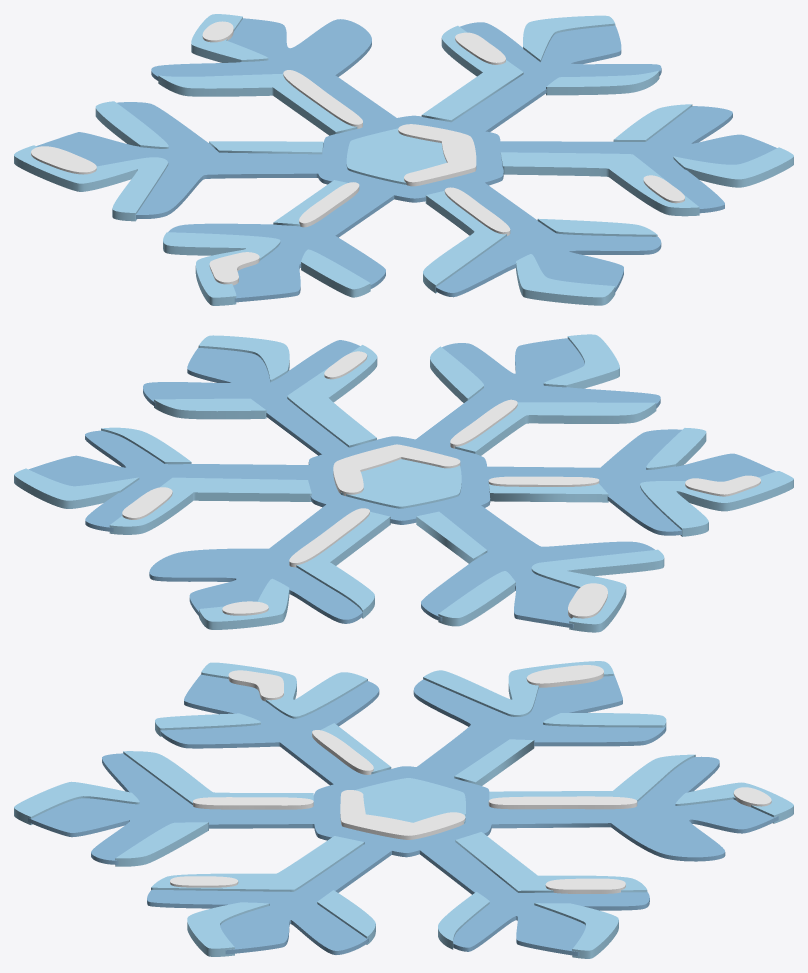
Rendered from emoji_u2744.glb.
The picture shows the model from 3 angles, top to bottom: view 1: azimuth 30°, elevation 25°; view 2: azimuth 150°, elevation 25°; view 3: azimuth 270°, elevation 25°; orthographic projection.
Visible parts, largest first — view 1: emoji_u2744; view 2: emoji_u2744; view 3: emoji_u2744.
Part boxes in pixels (bbox=[...]): emoji_u2744: bbox=[14, 14, 793, 305]; emoji_u2744: bbox=[14, 334, 793, 632]; emoji_u2744: bbox=[14, 661, 793, 958].
Size of the model in its own units: 0.0298 by 0.0006 by 0.034.
